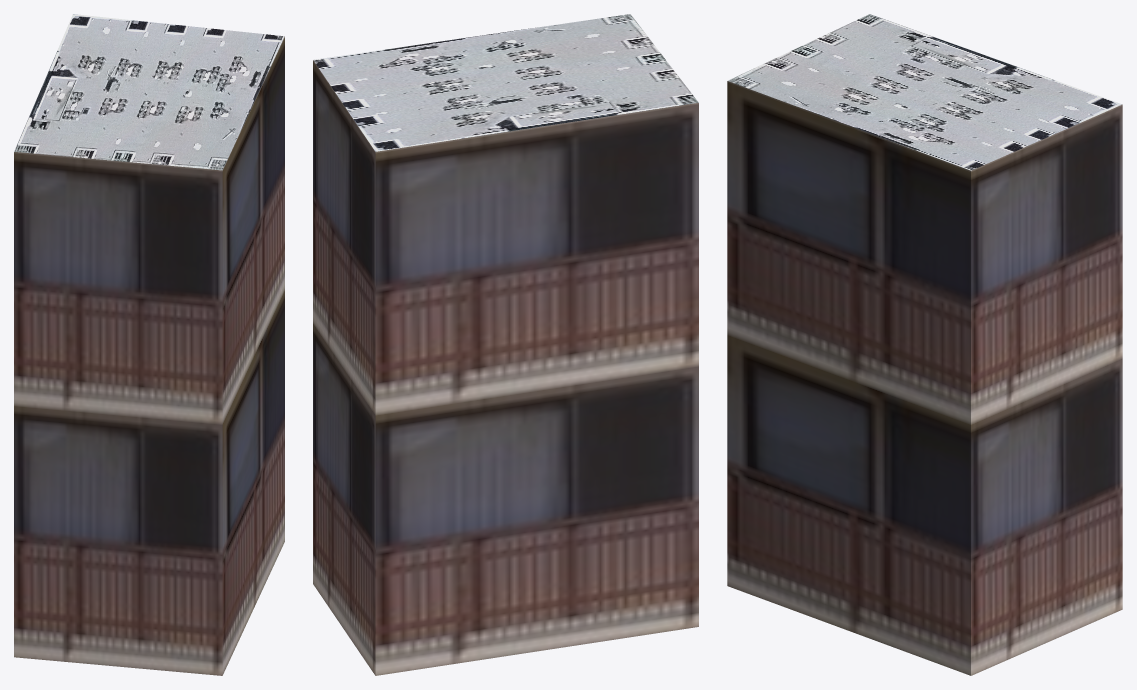
The model's file is ResTex__2172.fbx.
3 views of the same model, side by side, from view 1: azimuth 30°, elevation 25°; view 2: azimuth 150°, elevation 25°; view 3: azimuth 270°, elevation 25° (orthographic). The views are drawn at different scales.
Parts seen in each view (by area): view 1: CityEngineMaterial_6_m, CityEngineMaterial_8_m; view 2: CityEngineMaterial_6_m, CityEngineMaterial_8_m; view 3: CityEngineMaterial_6_m, CityEngineMaterial_8_m.
Boxes of the visible parts, x1,y1,x2,y2 form: CityEngineMaterial_6_m: (14,36,284,675); CityEngineMaterial_8_m: (14,14,284,170); CityEngineMaterial_6_m: (313,60,698,675); CityEngineMaterial_8_m: (313,14,698,151); CityEngineMaterial_6_m: (727,81,1122,675); CityEngineMaterial_8_m: (728,14,1121,170).
Size of the model in its own units: 3.99 by 6 by 4.25.
Materials: 2 (2 with a texture image).
